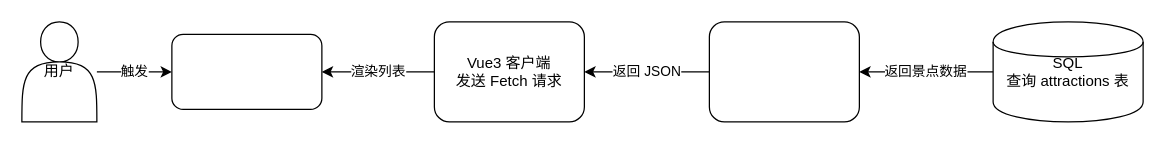
The diagram is 1165 pixels wide and 144 high, and some of its shapes have lost their labels. The centre of each missing label's shape, as x and y in pixels:
"Express 服务端 处理 /attraction/query" belongs at point 783,71.
"点击查询景点" belongs at point 246,71.
